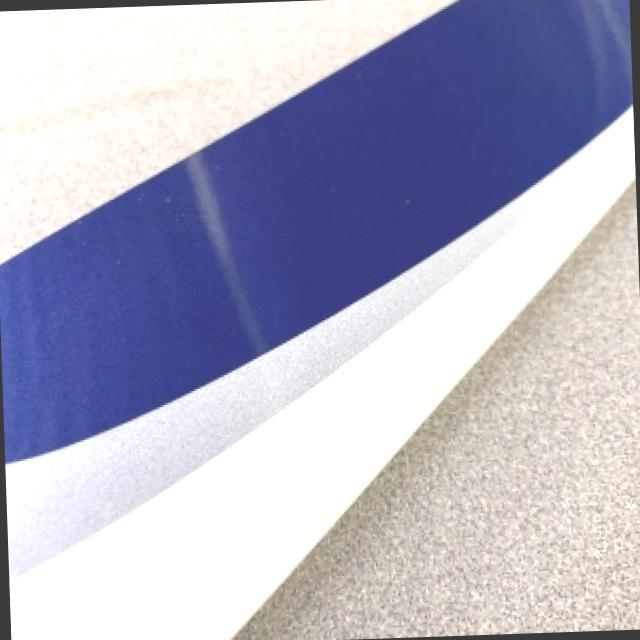healthy: (0, 0, 633, 640)
